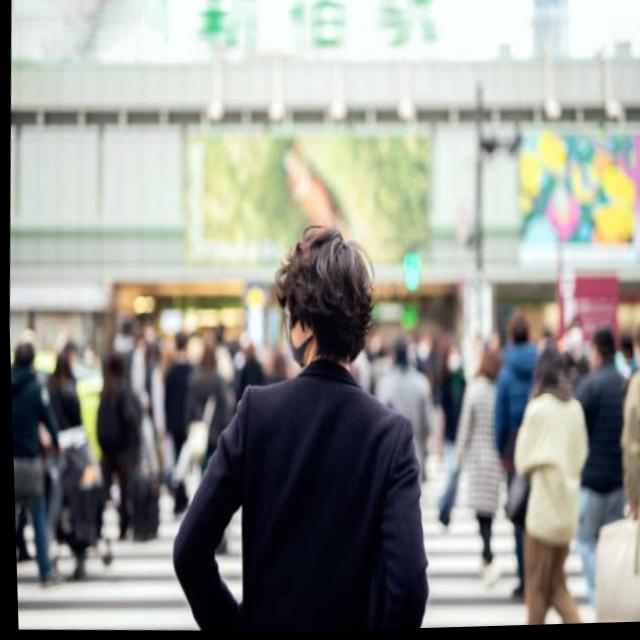no helmet: (262, 207, 388, 430)
